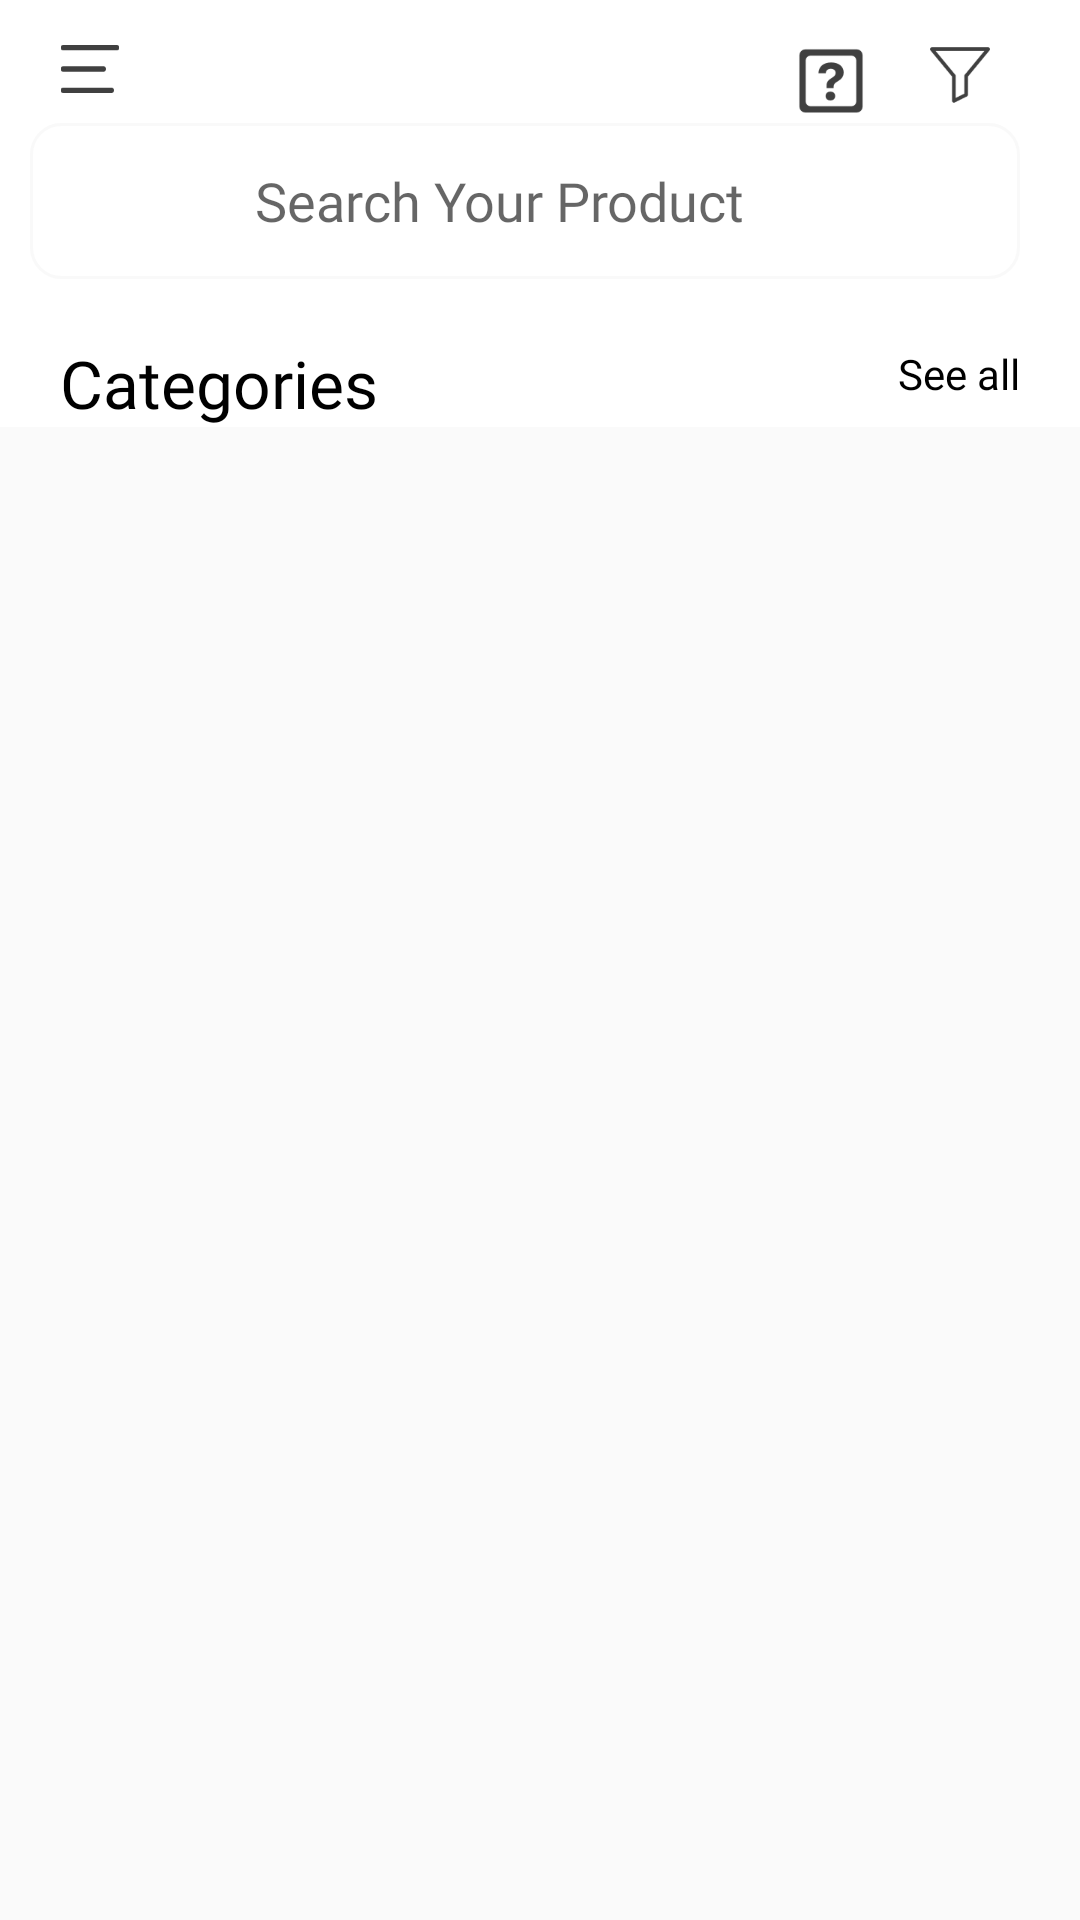

Icon click points for this 1080px x 1920px phone screenshot, format (x,y):
ask: (831,81)
filter: (960,75)
menubar: (90,69)
